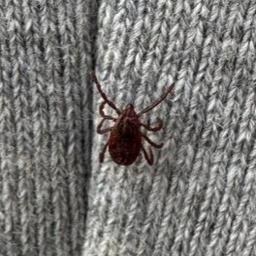Rhipicephalus sanguineus: (93, 75, 177, 167)
